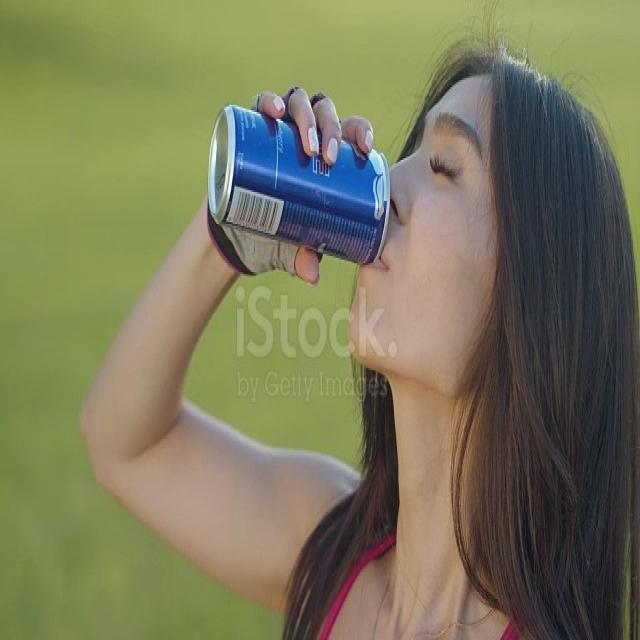can: (205, 100, 392, 280)
